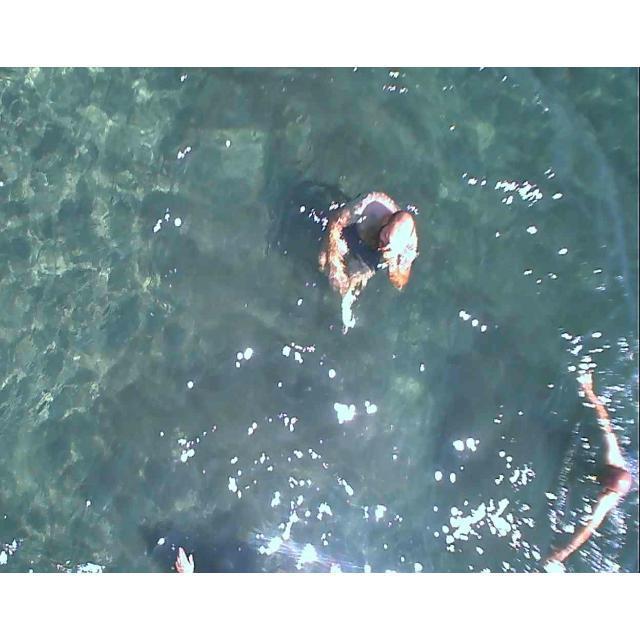human: (320, 176, 421, 330)
